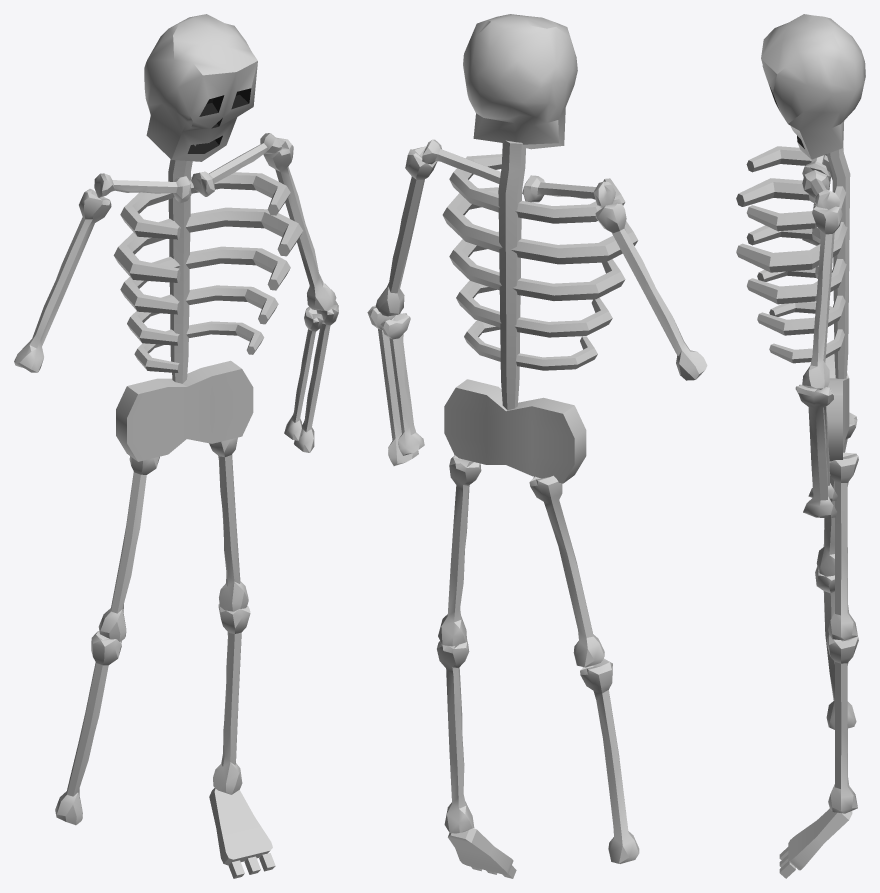
Rendered from Skeleton_01.fbx.
The picture shows the model from 3 angles, left to right: view 1: azimuth 30°, elevation 25°; view 2: azimuth 150°, elevation 25°; view 3: azimuth 270°, elevation 25°; orthographic projection. The views are drawn at different scales.
Visible parts, largest first — view 1: Skeleton_01_LOD0; view 2: Skeleton_01_LOD0; view 3: Skeleton_01_LOD0.
Part boxes in pixels (x1,y1,x2,y2): Skeleton_01_LOD0: (14,14,338,878); Skeleton_01_LOD0: (367,14,707,878); Skeleton_01_LOD0: (736,14,865,878).
Size of what is drawn, in the model's own units: 0.6619 by 1.67 by 0.2375.
